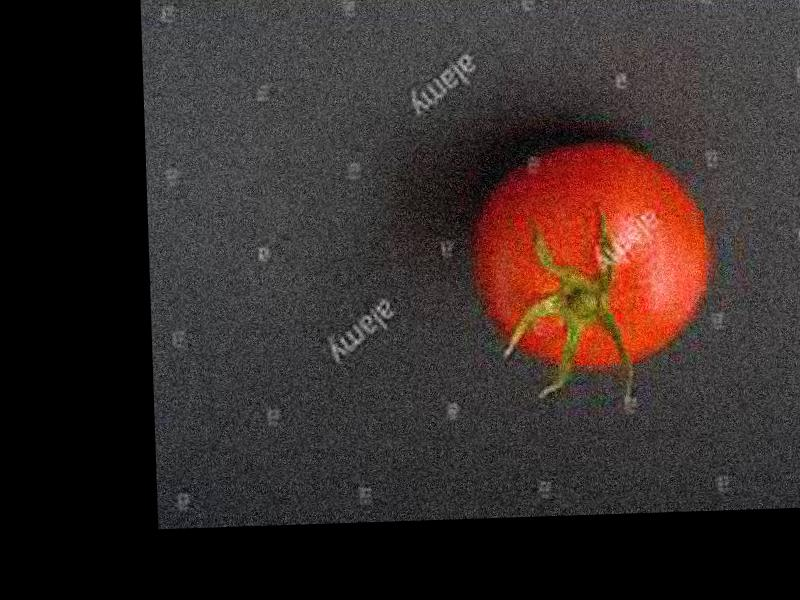Tomato: (469, 147, 714, 374)
